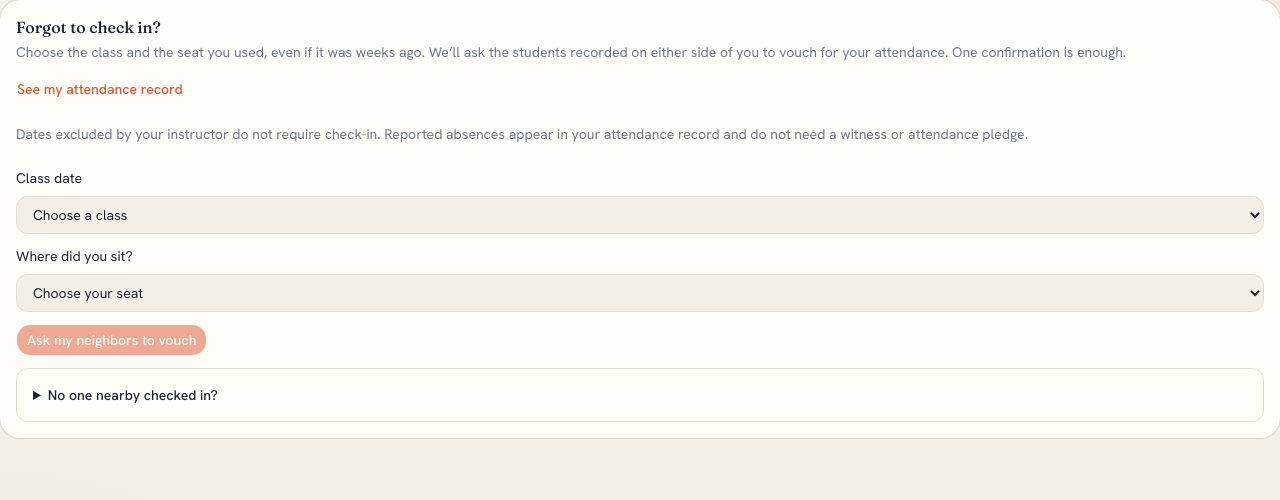
Test: late check-in › shows delivery failures without claiming success
The image size is (1280, 500).
Select "2026-09-15" in the dropdown labelled "Class date": [640, 215] box x1=16 y1=196 x2=1264 y2=234
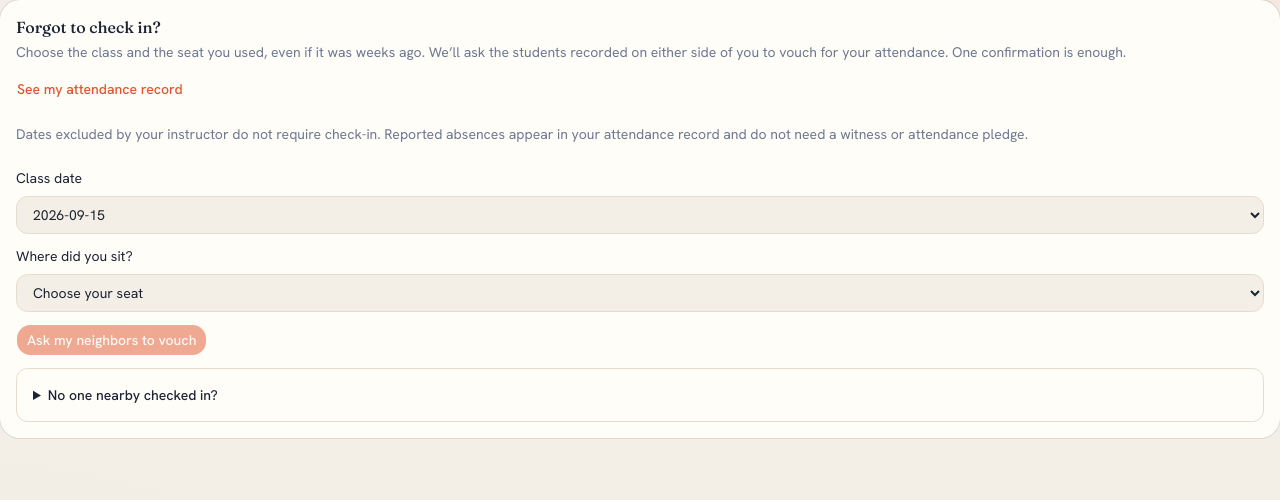
Select "B4" in the dropdown labelled "Where did you sit?": [640, 293] box x1=16 y1=274 x2=1264 y2=312
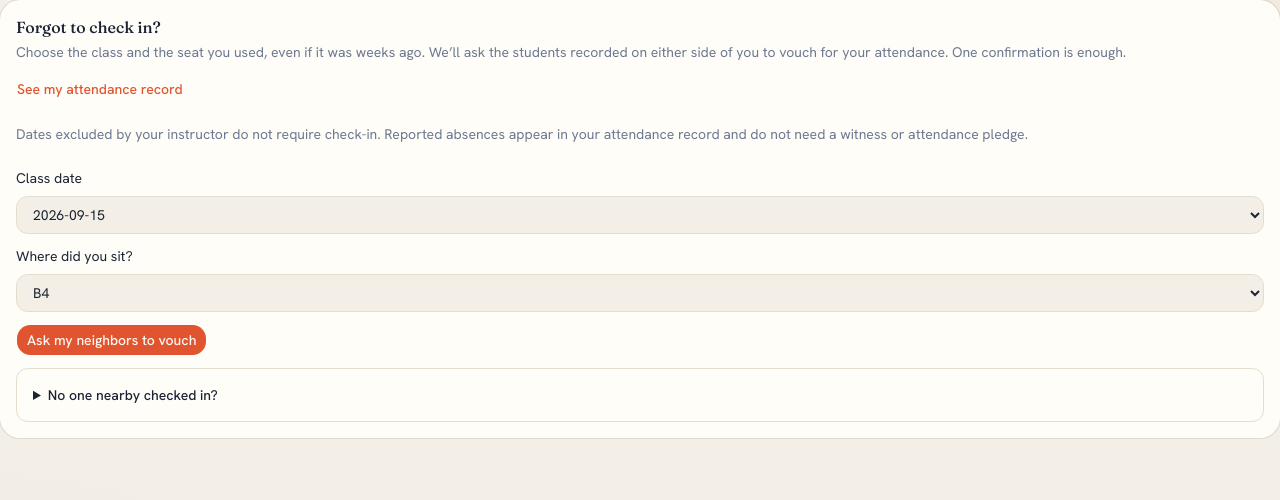
Click the button "Ask my neighbors to vouch": [112, 340] box x1=16 y1=324 x2=207 y2=356
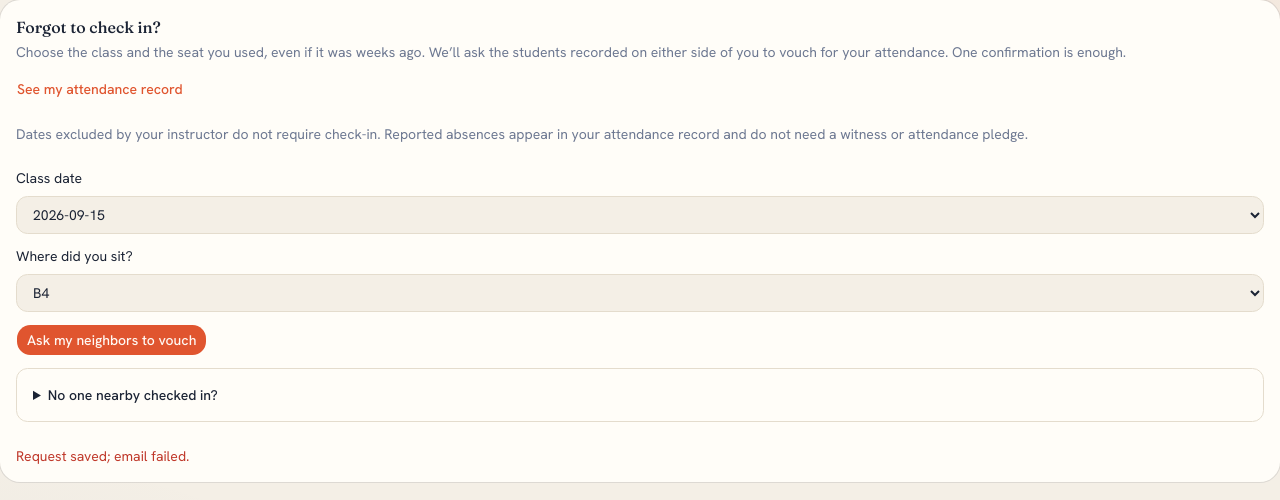
Expected: the message shows "email failed", x1=16 y1=447 x2=190 y2=465
